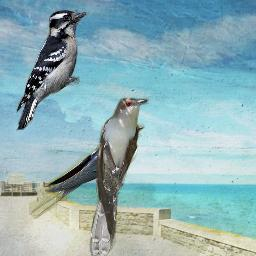Cuckoo: (89, 95, 149, 256)
Swallow: (29, 122, 145, 219)
Woodpecker: (16, 8, 89, 131)
